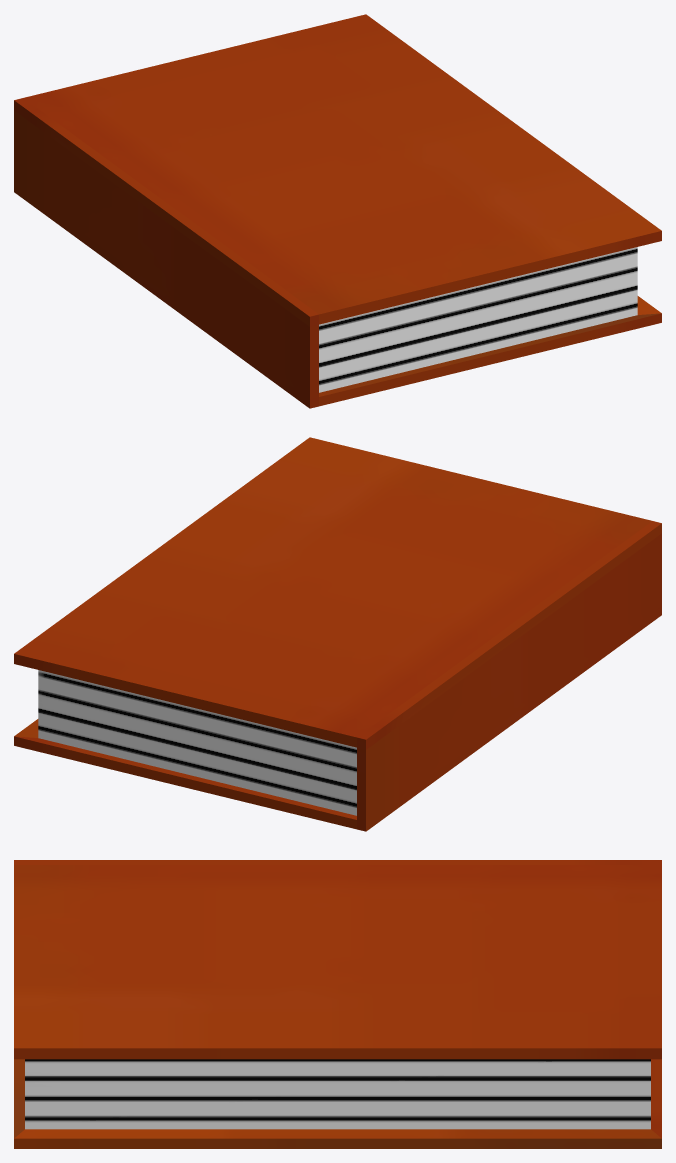
The model's file is Libro.obj.
The picture shows the model from 3 angles, top to bottom: view 1: azimuth 30°, elevation 25°; view 2: azimuth 150°, elevation 25°; view 3: azimuth 270°, elevation 25°; orthographic projection. The views are drawn at different scales.
Visible parts, largest first — view 1: Plano; view 2: Plano; view 3: Plano.
Part boxes in pixels (x1,y1,x2,y2): Plano: (14,14,661,408); Plano: (14,437,661,831); Plano: (14,860,661,1148).
Size of the model in its own units: 2.05 by 0.5126 by 2.99.
Materials: 1 (1 with a texture image).
